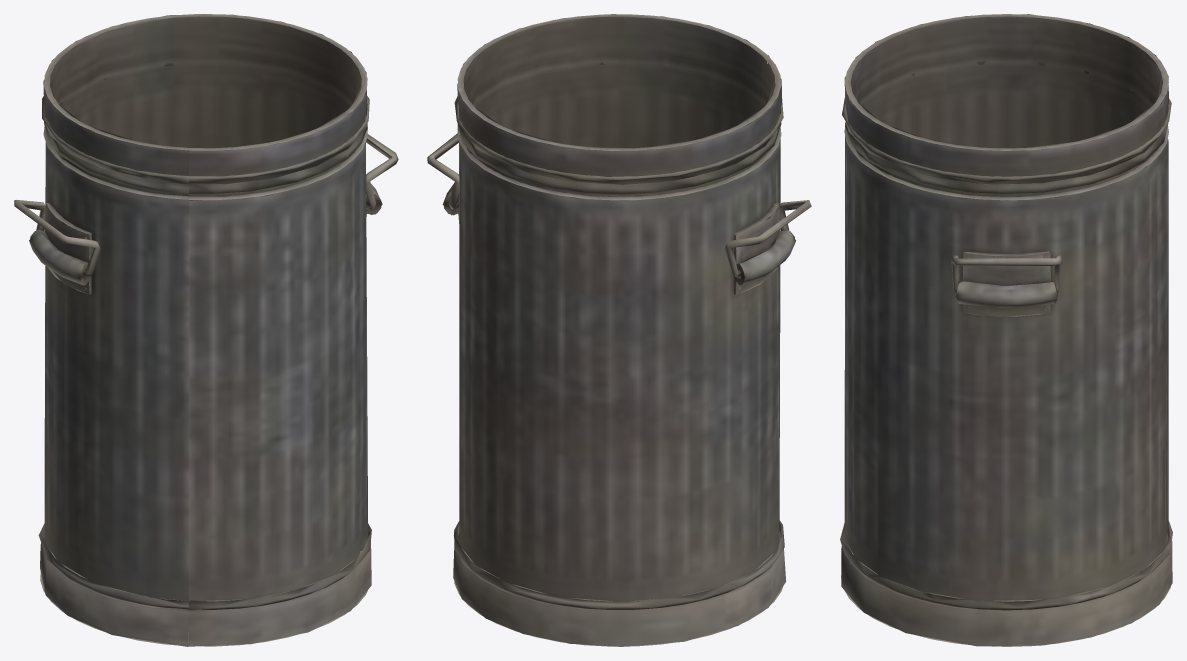
File: trash_can.glb
The picture shows the model from 3 angles, left to right: view 1: azimuth 30°, elevation 25°; view 2: azimuth 150°, elevation 25°; view 3: azimuth 270°, elevation 25°; orthographic projection.
Visible parts, largest first — view 1: metal_trash_can; view 2: metal_trash_can; view 3: metal_trash_can.
Part boxes in pixels (bbox=[...]): metal_trash_can: bbox=[14, 14, 398, 646]; metal_trash_can: bbox=[427, 14, 811, 646]; metal_trash_can: bbox=[840, 14, 1172, 646].
Bounding box in the file's own units: 0.6515 × 0.9062 × 0.5529.
1 material, 1 textured.
